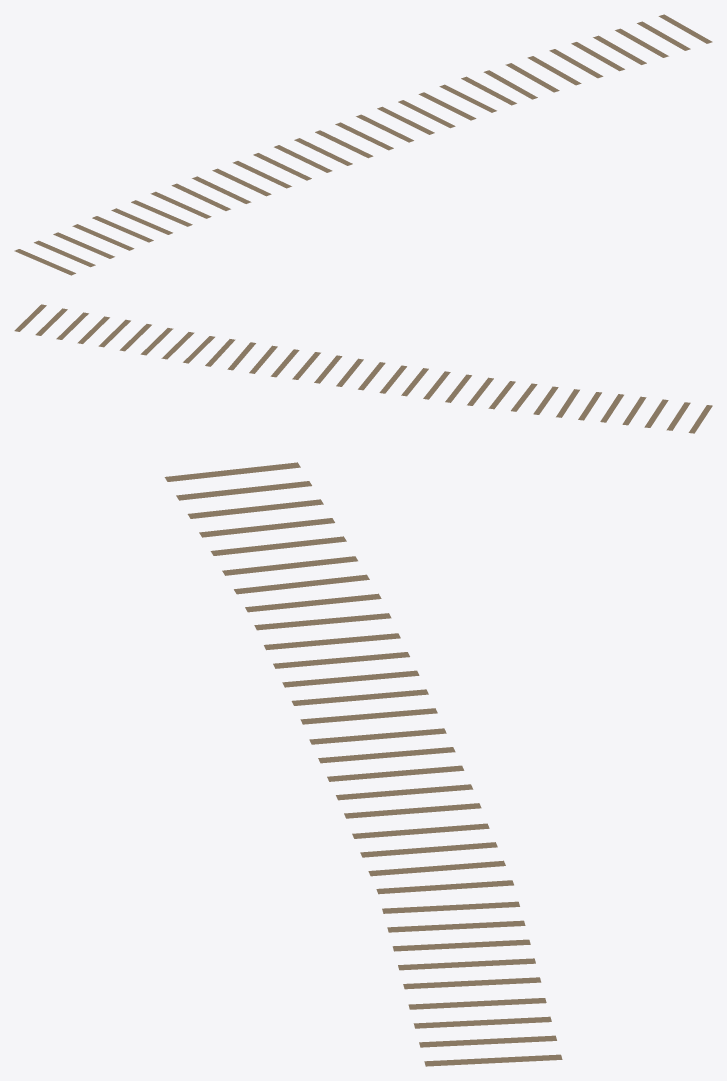
The model's file is c_1620_17823_rail_sleeper.glb.
The picture shows the model from 3 angles, top to bottom: view 1: azimuth 30°, elevation 25°; view 2: azimuth 150°, elevation 25°; view 3: azimuth 270°, elevation 25°; orthographic projection. The views are drawn at different scales.
Parts seen in each view (by area): view 1: geometry_0; view 2: geometry_0; view 3: geometry_0.
Boxes of the visible parts, x1,y1,x2,y2 form: geometry_0: [14, 14, 712, 275]; geometry_0: [14, 304, 712, 433]; geometry_0: [164, 462, 562, 1066].
Bounding box in the file's own units: 25 × 0.0463 × 6.94.
